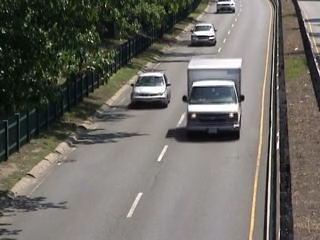car: (124, 69, 174, 109), (188, 22, 218, 50), (215, 2, 236, 15)
truck: (180, 55, 250, 143)
